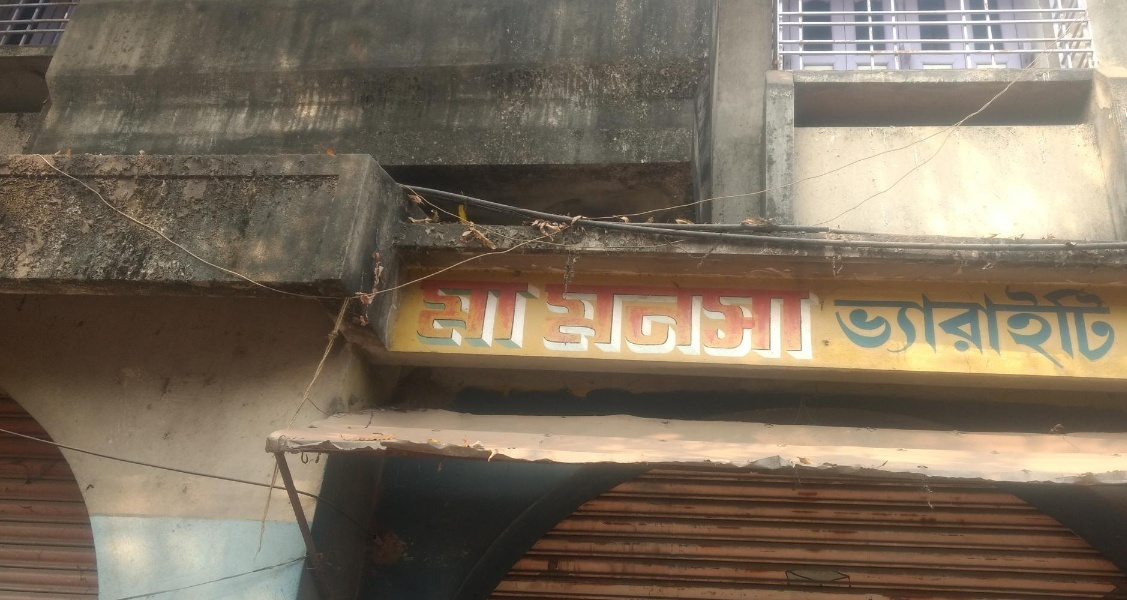text: (833, 283, 848, 374), (849, 283, 864, 374), (865, 283, 880, 374), (881, 283, 896, 374), (897, 283, 912, 374), (913, 283, 928, 374), (929, 283, 944, 374), (945, 283, 960, 374), (961, 283, 976, 374), (977, 283, 992, 374), (993, 283, 1008, 374), (1009, 283, 1024, 374), (1025, 283, 1040, 374), (1041, 283, 1056, 374), (1057, 283, 1072, 374), (1073, 283, 1088, 374), (1089, 283, 1104, 374), (1105, 283, 1120, 374), (545, 281, 560, 361), (561, 281, 576, 361), (577, 281, 592, 361), (593, 281, 608, 361), (609, 281, 624, 361), (625, 281, 640, 361), (641, 281, 656, 361), (657, 281, 672, 361), (673, 281, 688, 361), (689, 281, 704, 361), (705, 281, 720, 361), (721, 281, 736, 361), (737, 281, 752, 361), (753, 281, 768, 361), (769, 281, 784, 361), (785, 281, 800, 361), (801, 281, 816, 361), (433, 276, 448, 349), (449, 276, 464, 349), (465, 276, 480, 349), (481, 276, 496, 349), (497, 276, 512, 349), (513, 276, 528, 349), (418, 276, 432, 349), (529, 276, 542, 349), (817, 281, 822, 361), (1121, 283, 1122, 374), (543, 281, 544, 361)
